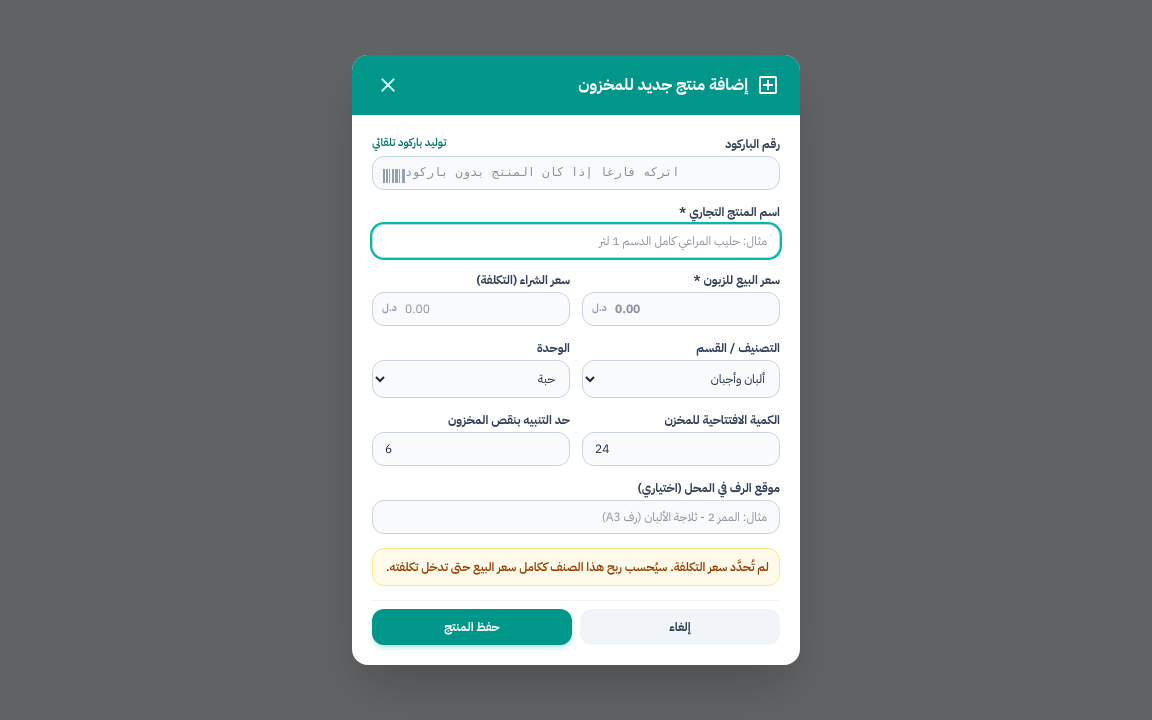
AddProductModal - cost is never invented › does not warn once a cost is entered
This screenshot has width=1152, height=720.
In the field labelled "اسم المنتج التجاري *": (576, 241) top-left (372, 224), bottom-right (780, 258), type "حليب"
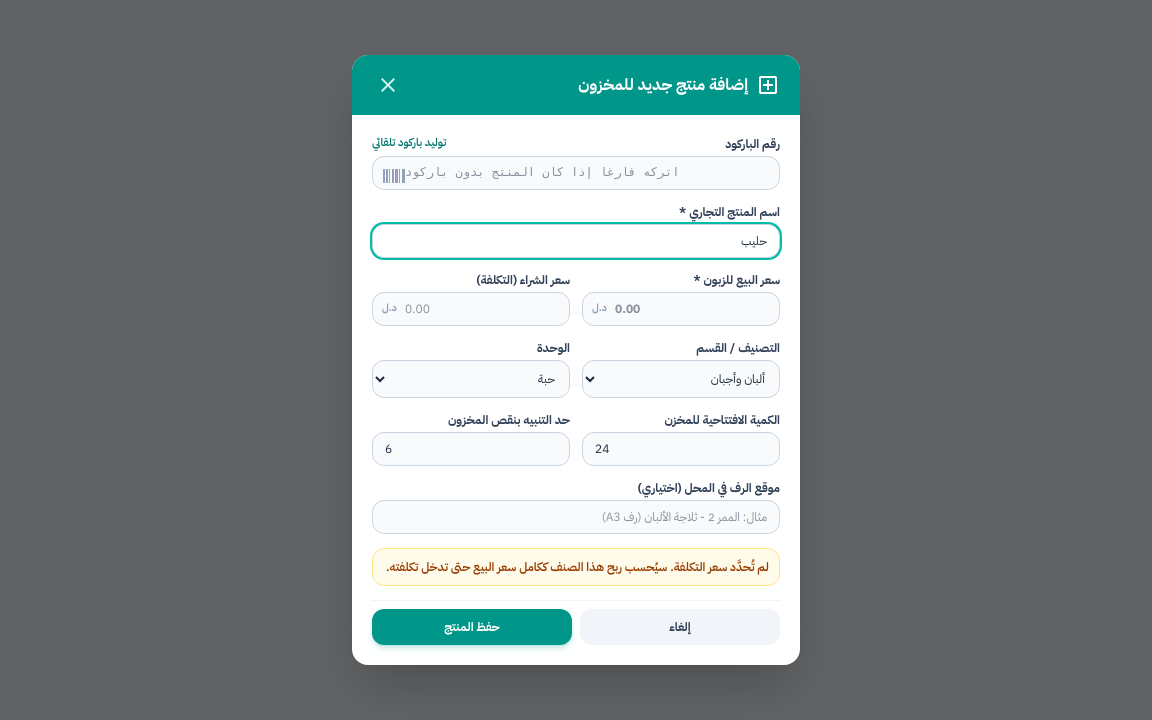
In the number field labelled "سعر البيع للزبون *": (681, 309) top-left (582, 292), bottom-right (780, 326), type "10"
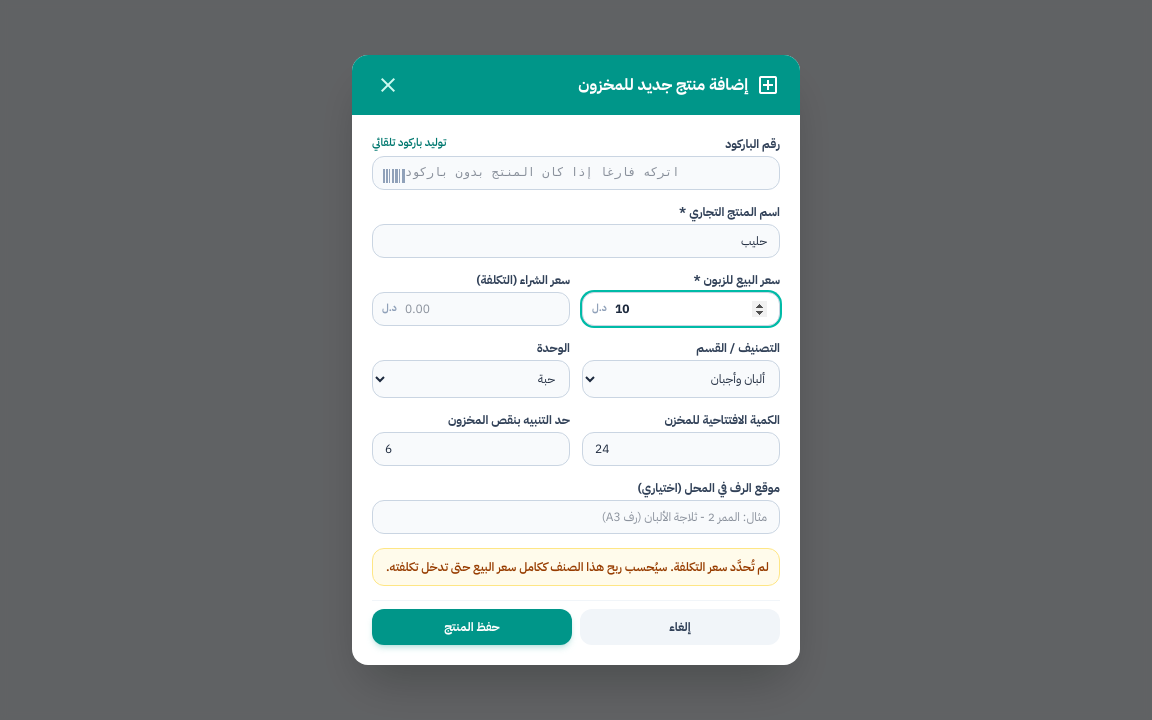
In the number field labelled "سعر الشراء (التكلفة)": (471, 309) top-left (372, 292), bottom-right (570, 326), type "6.5"
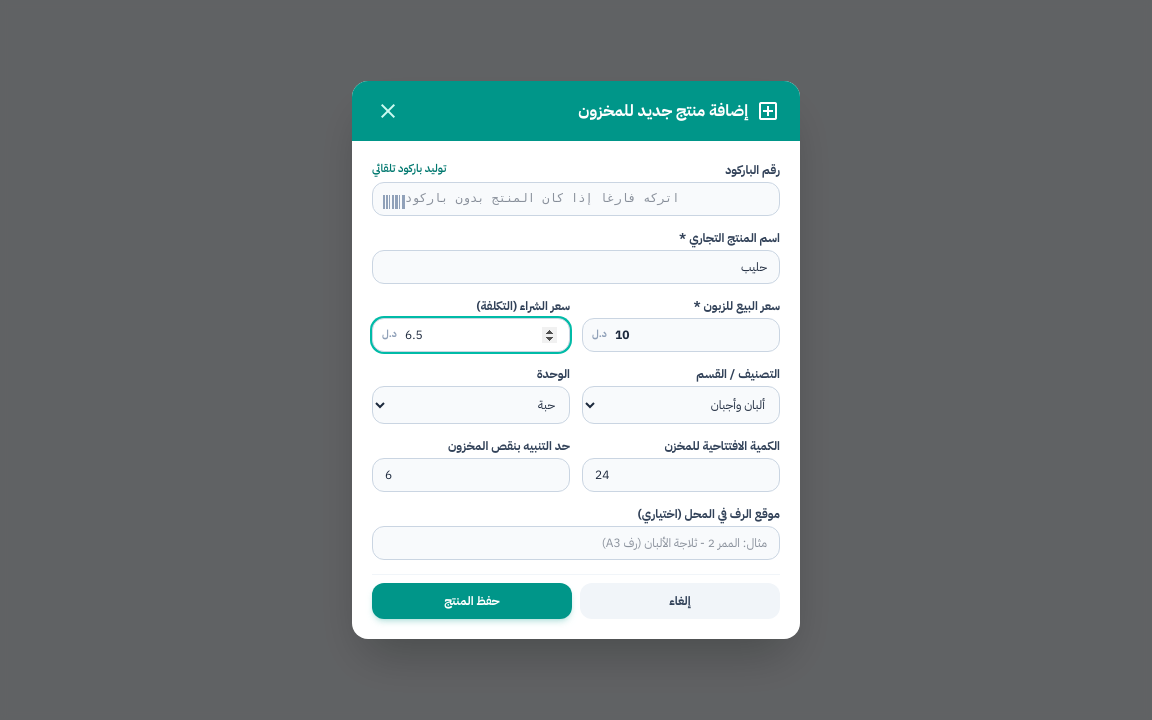
Now the message "لم تُحدَّد سعر التكلفة. سيُحسب ربح هذا الصنف ككامل سعر البيع حتى تدخل تكلفته." is gone
